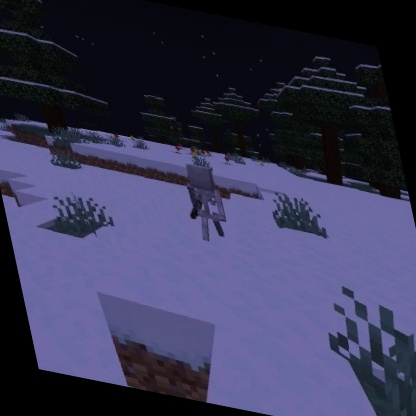skeleton: (175, 158, 235, 249)
